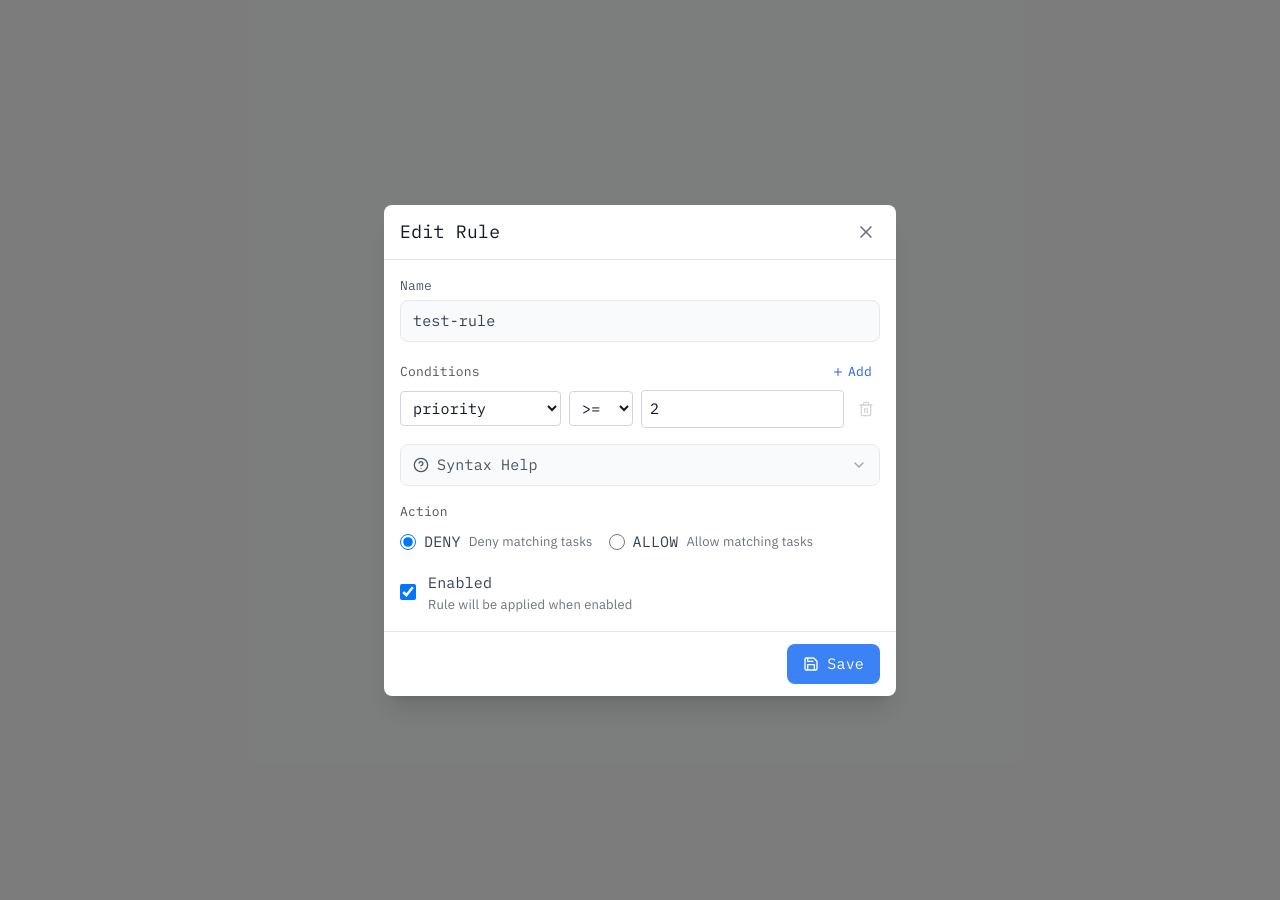
EditRuleModal › syntax help toggle › expands syntax help when clicked
Note: Click to expand
Step 1. Click the button "Syntax Help" → click(487, 464), box x1=401 y1=444 x2=879 y2=484
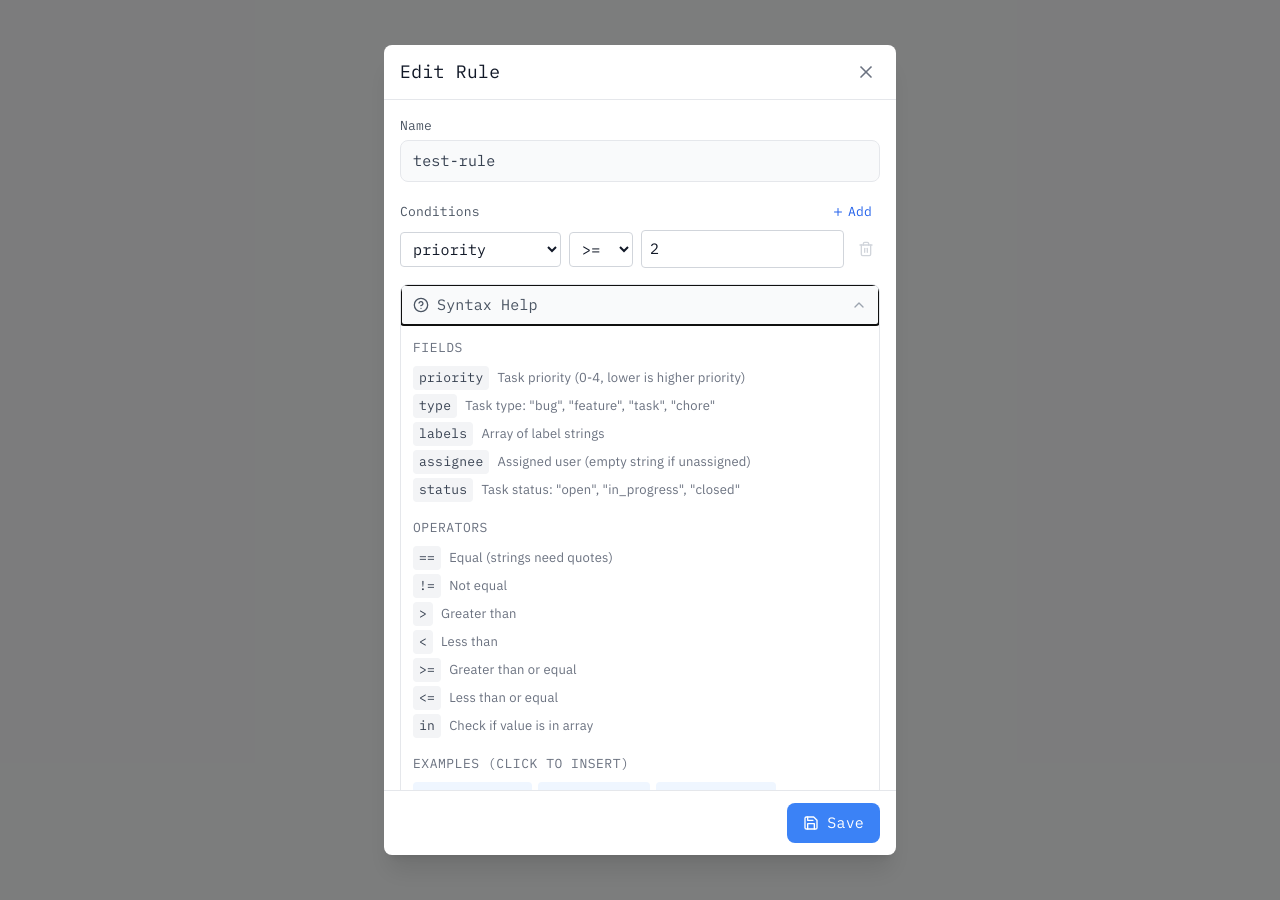
expect the heading "Fields" is shown: met, box x1=413 y1=339 x2=463 y2=356
expect the heading "Operators" is shown: met, box x1=413 y1=519 x2=488 y2=536
